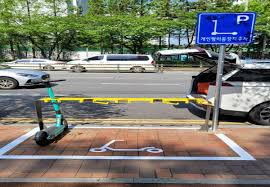kick_board: (34, 79, 67, 145)
kick_wheel: (35, 132, 48, 145), (63, 118, 68, 130)
